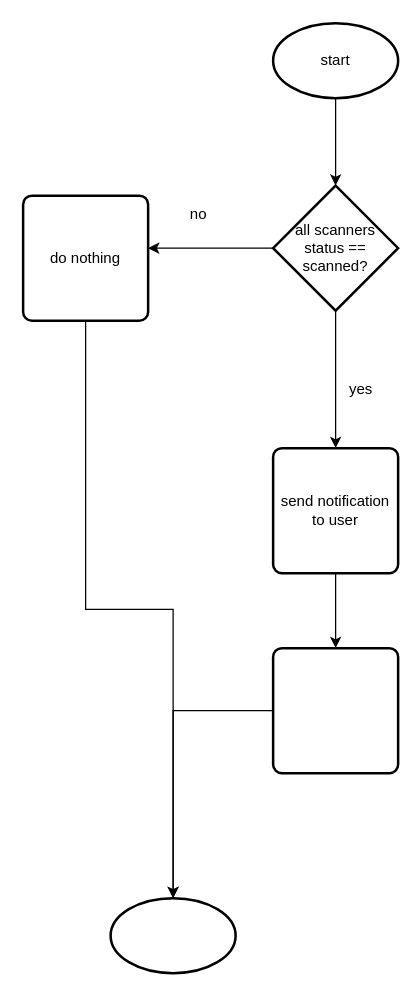
This 420x995 diagram has some shape labels left out. The shapes that lost their labels are listed below. From the top down, each one's box as (x1, y1, x2, y2) in pixels, then its label:
(271, 646, 399, 774): change file status to completed
(109, 896, 236, 974): end
